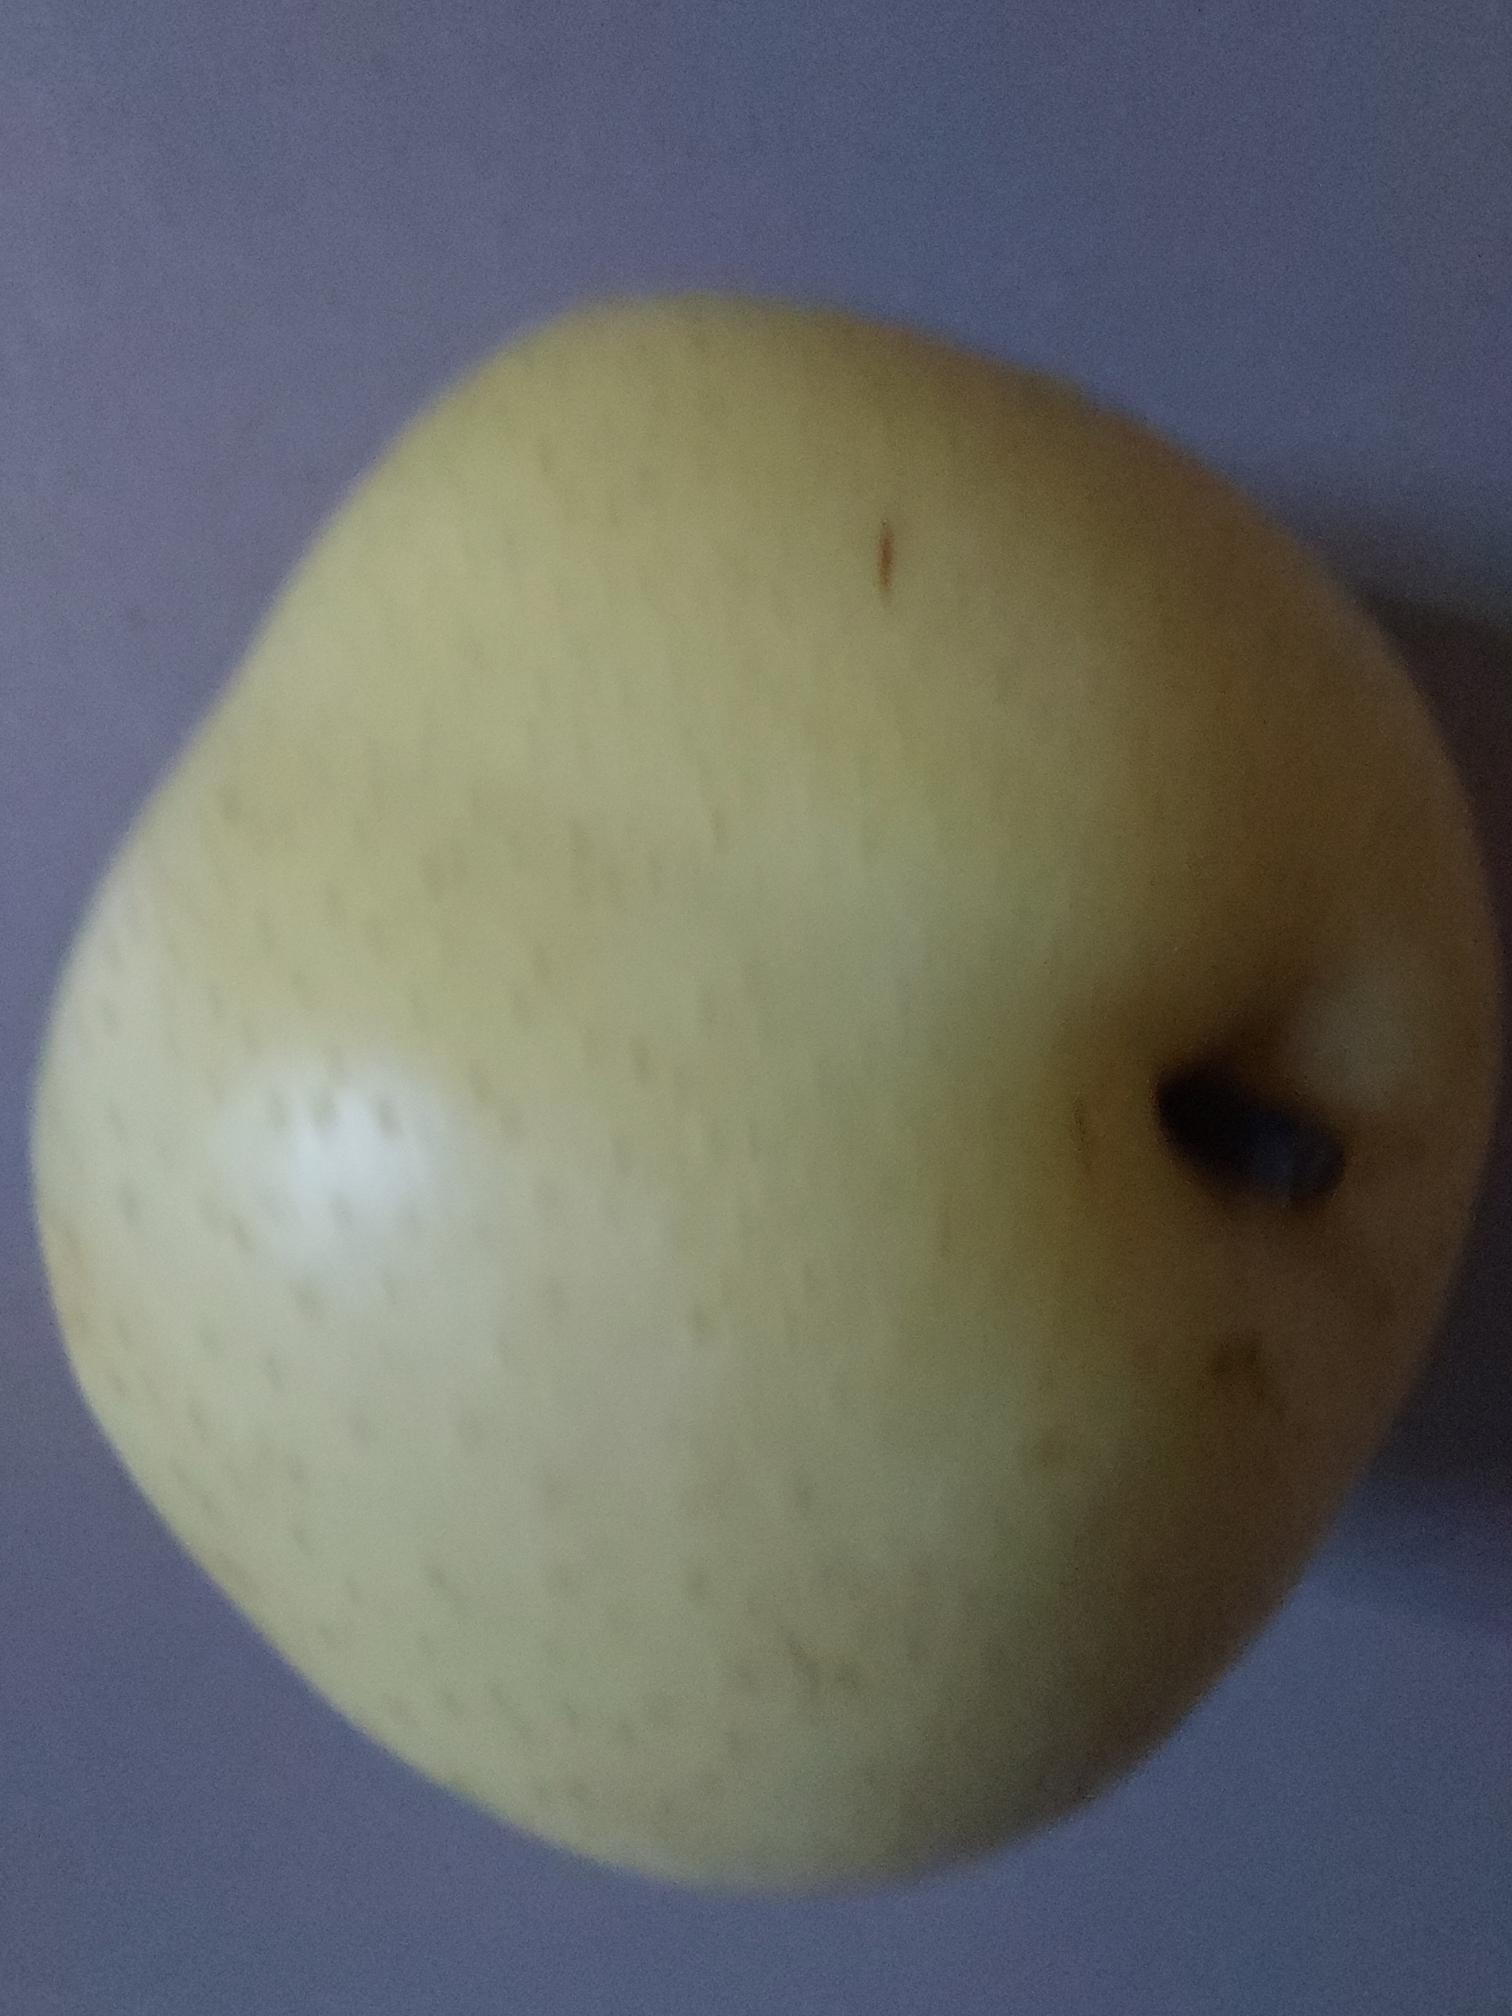Good Pear: (8, 260, 1512, 1910)
